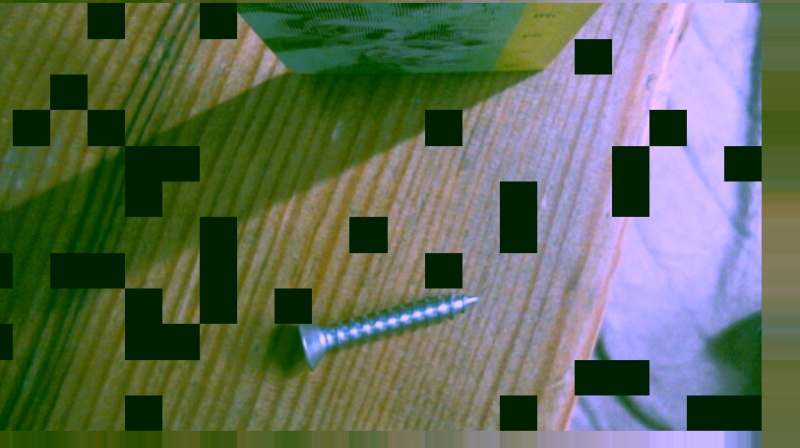S001: (292, 286, 486, 375)
